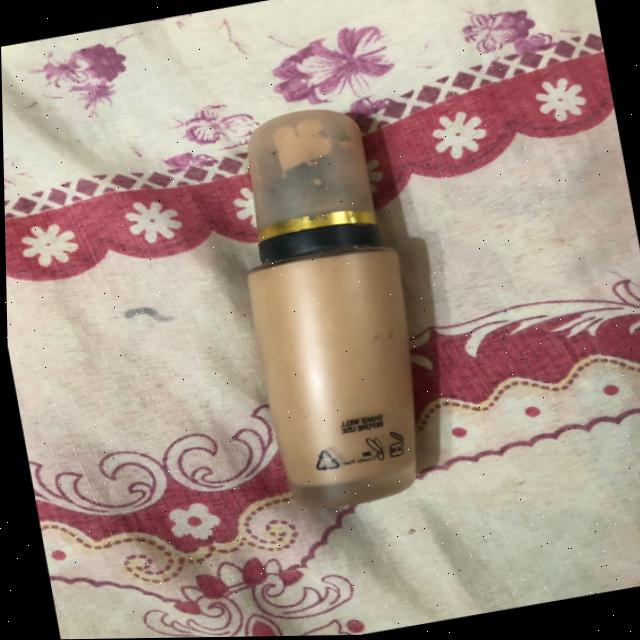foundation: (198, 80, 467, 525)
